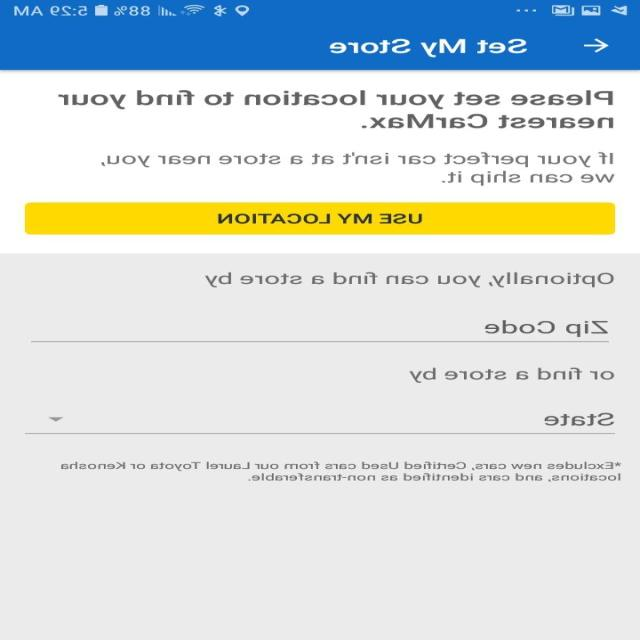EditText: (31, 319, 609, 342), (25, 412, 615, 434)
Icon: (584, 38, 611, 53), (48, 416, 65, 422)
Text: (58, 90, 614, 129), (101, 151, 615, 186), (62, 461, 622, 482), (205, 270, 614, 288), (330, 39, 528, 58), (409, 367, 615, 383), (484, 319, 608, 337), (544, 412, 615, 426)
TextButton: (26, 202, 616, 234)
